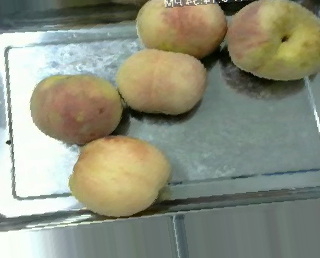Peach: (67, 135, 170, 216), (227, 0, 320, 79), (31, 71, 123, 145), (116, 46, 206, 117), (134, 0, 225, 57)
